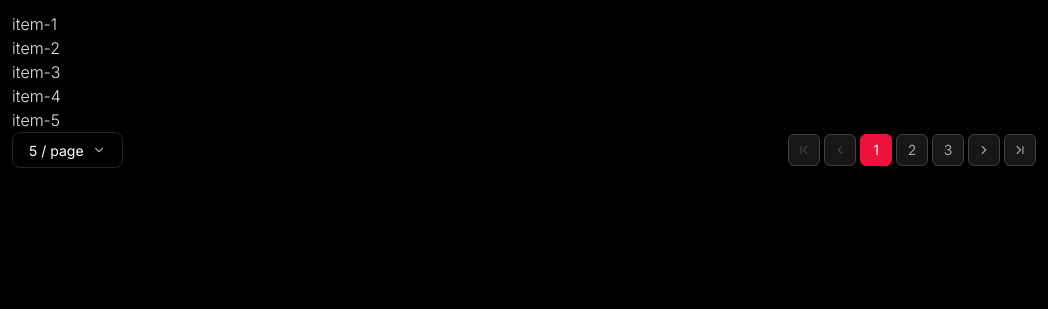
Test: usePagination › usage with Pagination › changing the page size re-pages and resets to page 1
Click the button named "Page 3": {"x": 948, "y": 150} [932,134,964,166]
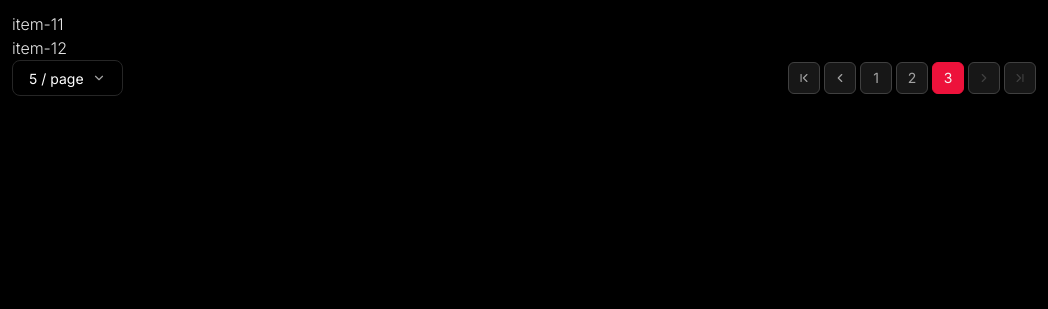
Expected: the list item "item-11" is shown, [12,14,64,34]
Click the button with aria-label "Items per page": {"x": 67, "y": 78} [12,60,122,96]
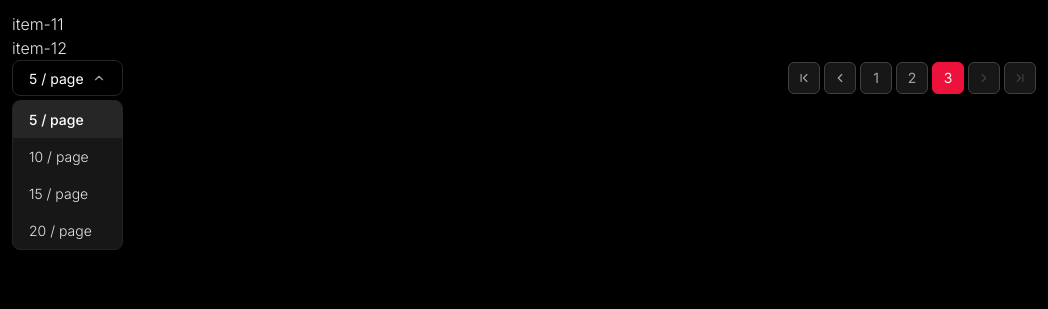
Press the mouse on the option "10 / page": {"x": 59, "y": 156} [29,148,89,165]
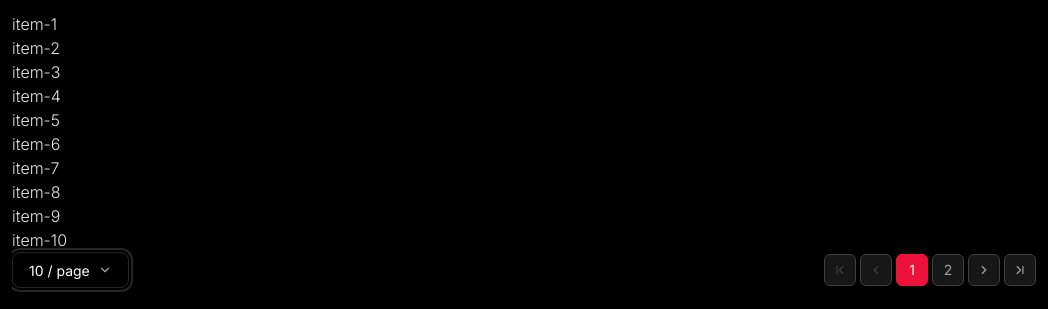
Expected: the list item "item-1" is shown, [12,14,57,34]
Expected: the list item "item-10" is shown, [12,230,67,250]
Expected: the list item "item-11" is gone
